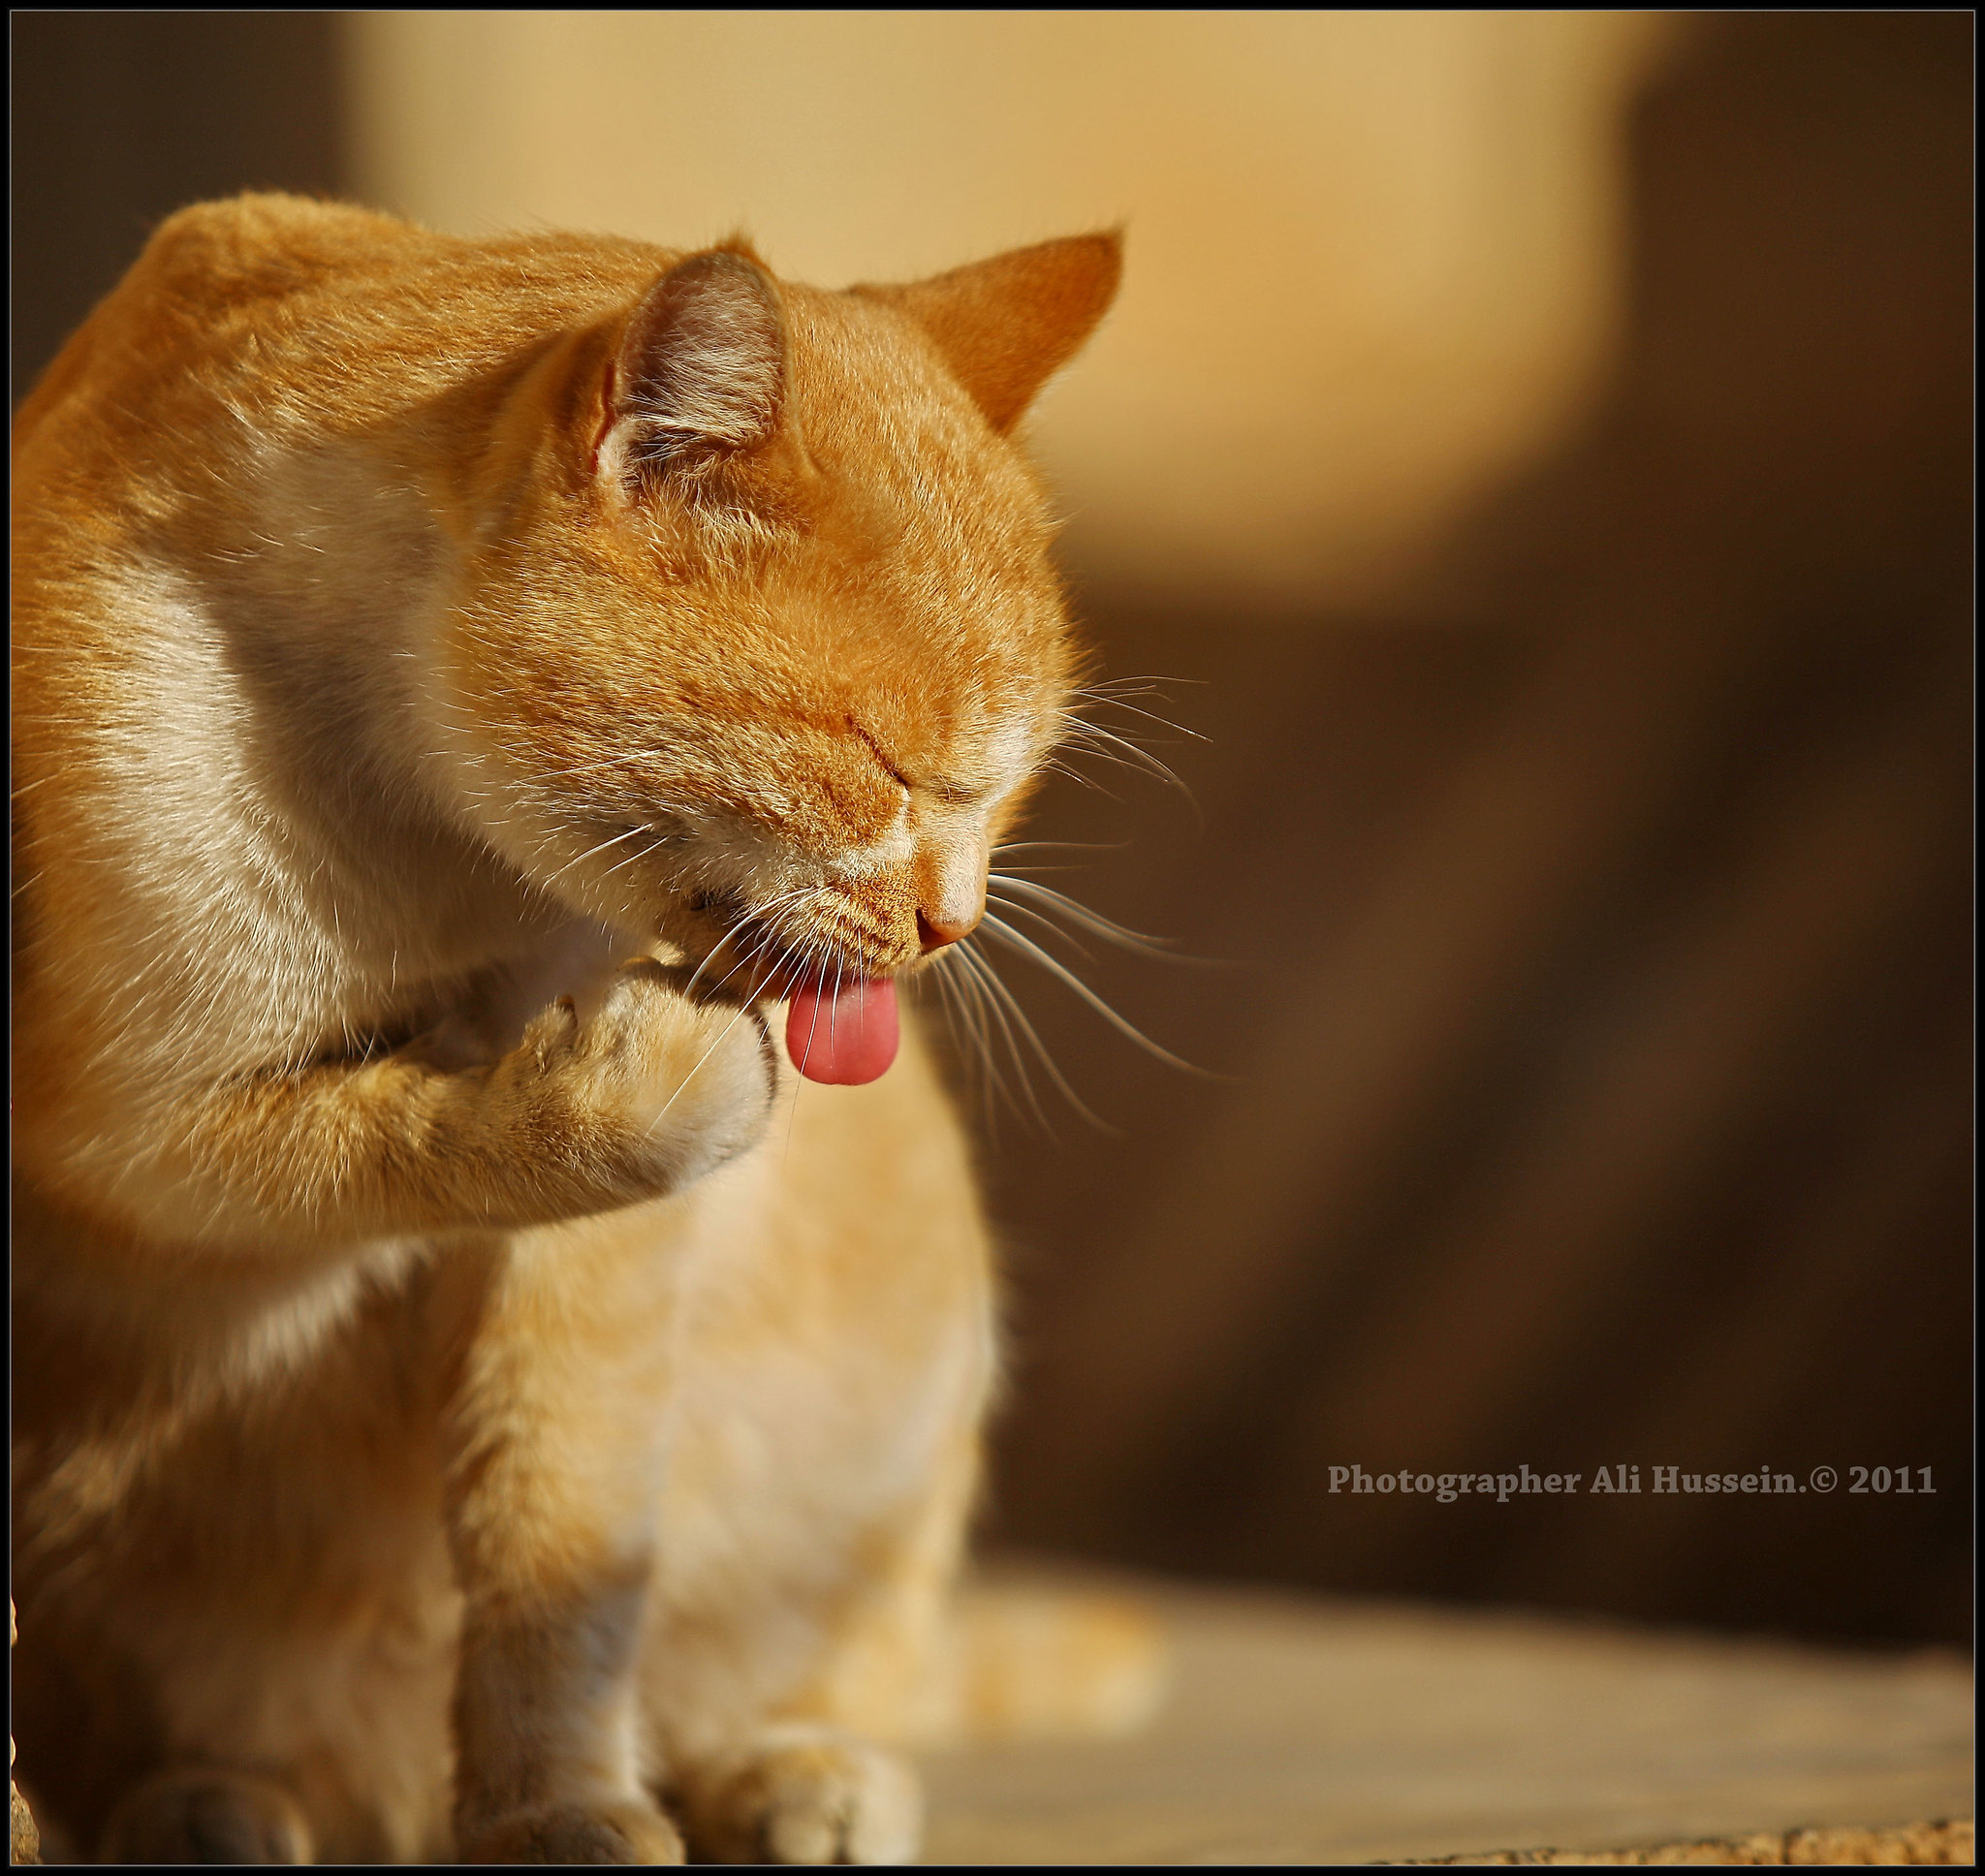cat: (2, 196, 1156, 1830)
